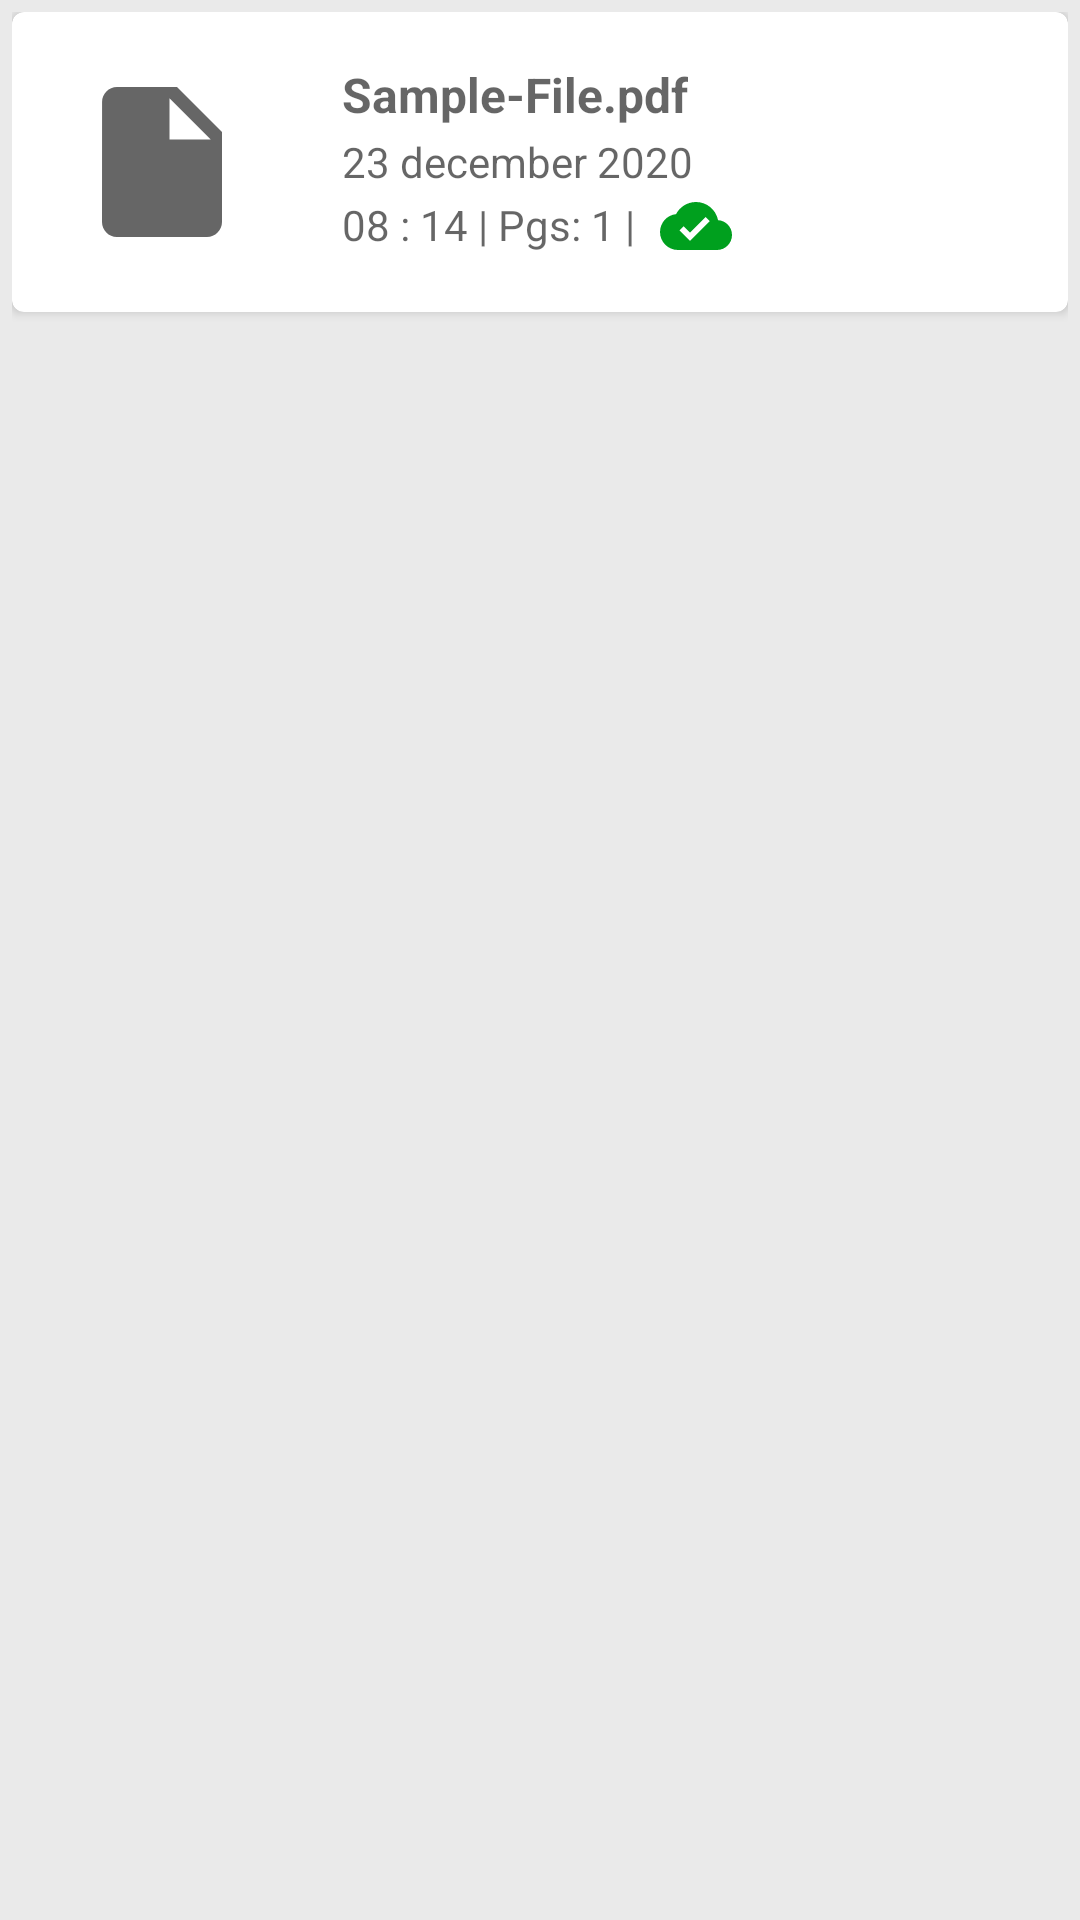

Screen size 1080x1920. Icon name, then its box in pixels as {"left": x1, "top": y1, "right": x2, "bottom": y2}:
synced: {"left": 660, "top": 202, "right": 732, "bottom": 250}
